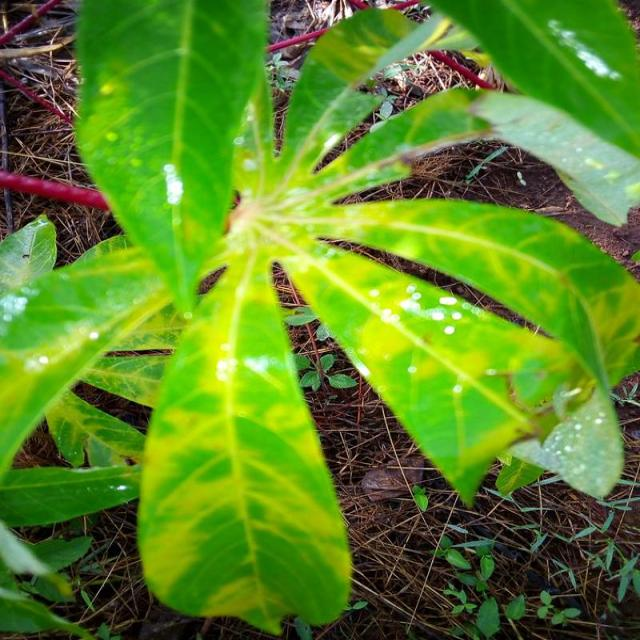cassava leaf: (0, 1, 638, 634), (135, 258, 354, 635), (71, 0, 271, 317)
